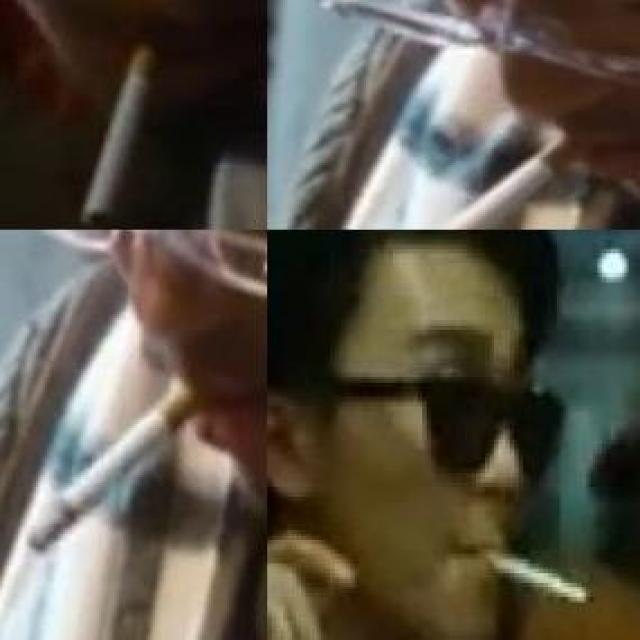smoke: (23, 372, 210, 553), (396, 118, 602, 228), (78, 30, 166, 229), (476, 541, 595, 606)
